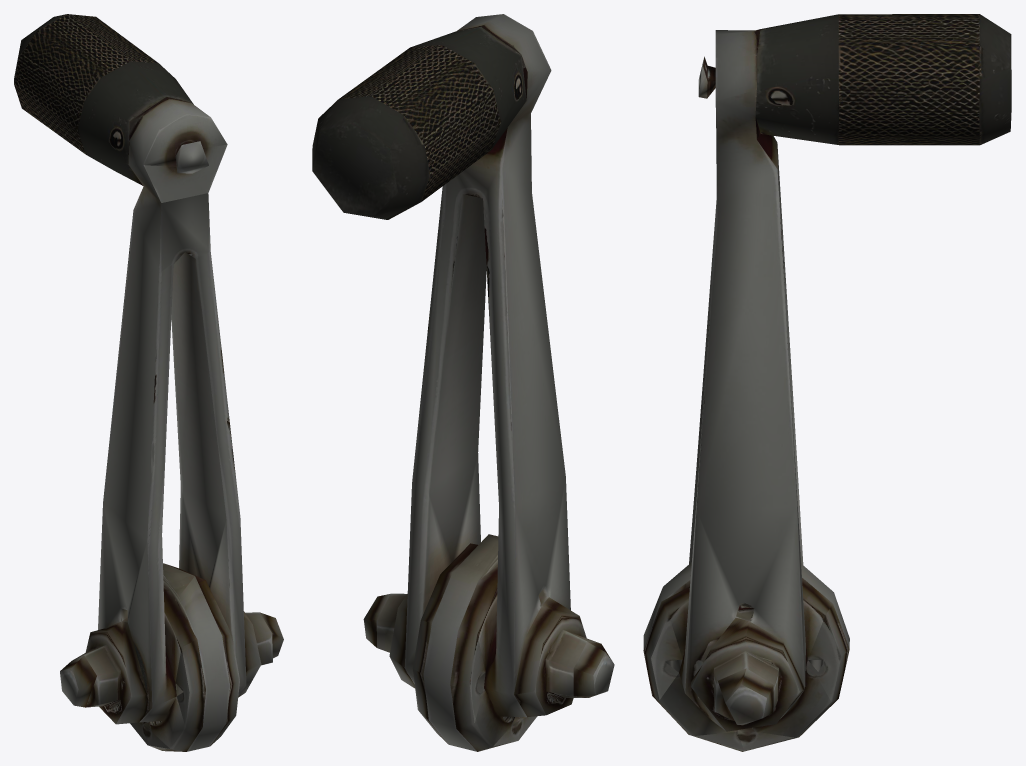
File: throttle.glb
The picture shows the model from 3 angles, left to right: view 1: azimuth 30°, elevation 25°; view 2: azimuth 150°, elevation 25°; view 3: azimuth 270°, elevation 25°; orthographic projection. The views are drawn at different scales.
Visible parts, largest first — view 1: tripo_node_c0e02d4f-d01e-4c03-8b93-e168d; view 2: tripo_node_c0e02d4f-d01e-4c03-8b93-e168d; view 3: tripo_node_c0e02d4f-d01e-4c03-8b93-e168d.
Part boxes in pixels (x1,y1,x2,y2): tripo_node_c0e02d4f-d01e-4c03-8b93-e168d: (14,14,283,751); tripo_node_c0e02d4f-d01e-4c03-8b93-e168d: (312,14,614,751); tripo_node_c0e02d4f-d01e-4c03-8b93-e168d: (643,14,1011,751).
Size of the model in its own units: 0.3251 by 0.9907 by 0.4549.
Materials: 1 (1 with a texture image).
